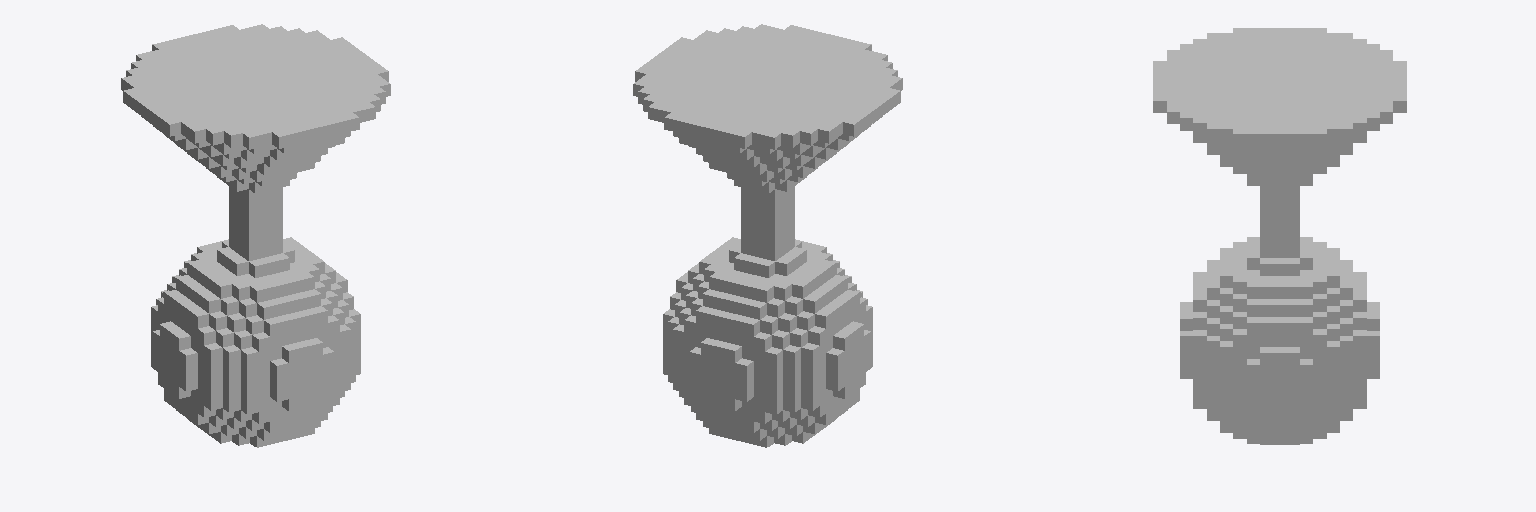
Rendered from lustre.obj.
The picture shows the model from 3 angles: view 1: azimuth 30°, elevation 25°; view 2: azimuth 150°, elevation 25°; view 3: azimuth 270°, elevation 25°; orthographic projection.
Visible parts, largest first — view 1: object 1; view 2: object 1; view 3: object 1.
Boxes of the visible parts, <box> form: object 1: <box>121,24,390,447</box>; object 1: <box>633,24,902,447</box>; object 1: <box>1153,28,1406,444</box>.
Size of the model in its own units: 1.9 by 2.9 by 1.9.